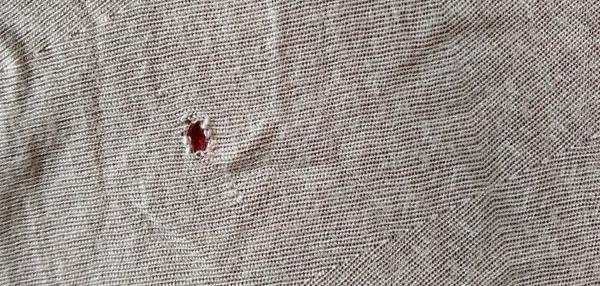hole: (170, 113, 219, 160)
